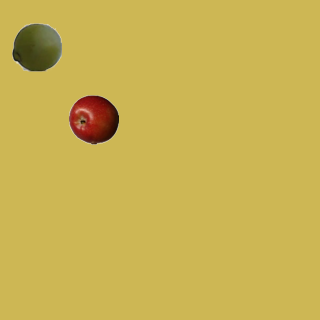Apple Braeburn: (68, 94, 118, 144)
Grape White 4: (11, 21, 61, 71)
